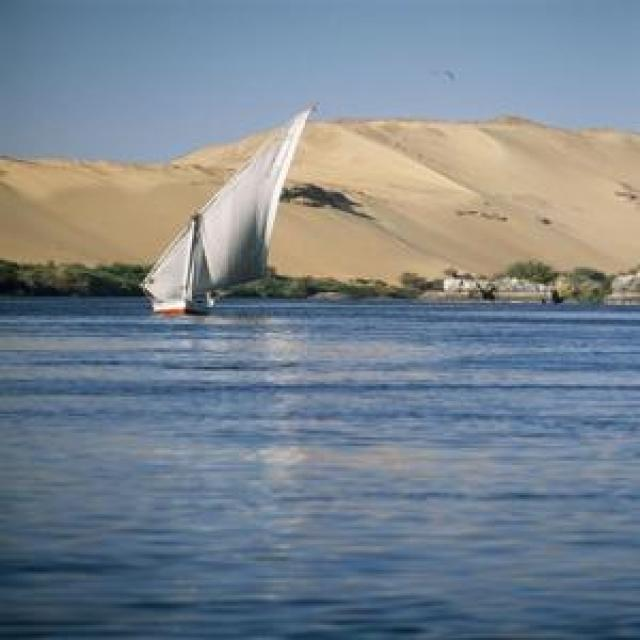sailboat: (133, 99, 321, 318)
